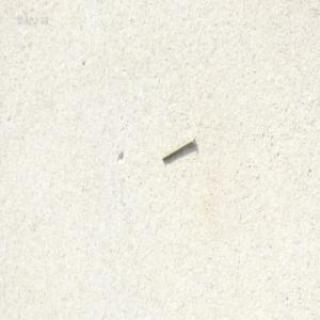Bolttrack_idkeyframe: (160, 133, 195, 161)
